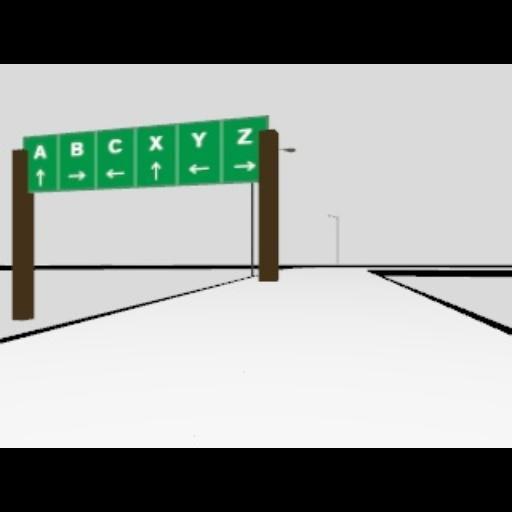A: (32, 144, 46, 158)
B: (70, 141, 84, 155)
C: (107, 138, 121, 154)
Left: (102, 166, 126, 178), (186, 164, 210, 174)
Right: (232, 160, 256, 172), (68, 170, 86, 180)
Straight: (150, 160, 162, 180), (35, 168, 45, 186)
X: (149, 134, 163, 150)
Y: (190, 129, 206, 147)
Z: (235, 126, 253, 144)
